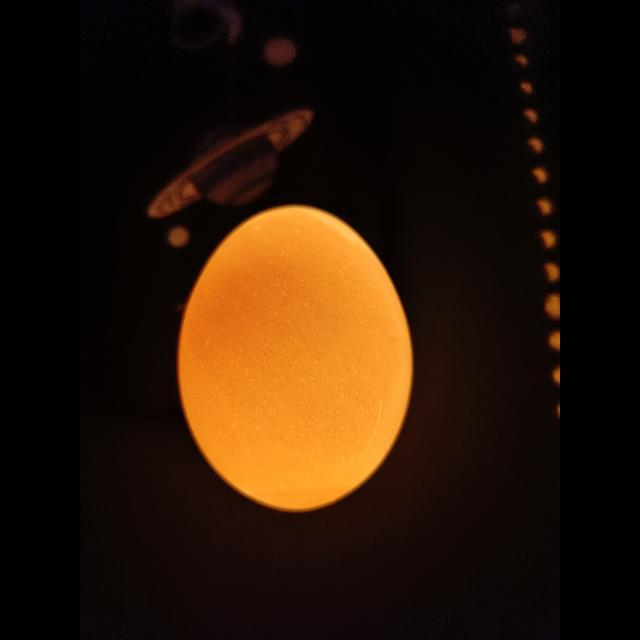AA - Premium: (178, 206, 413, 510)
